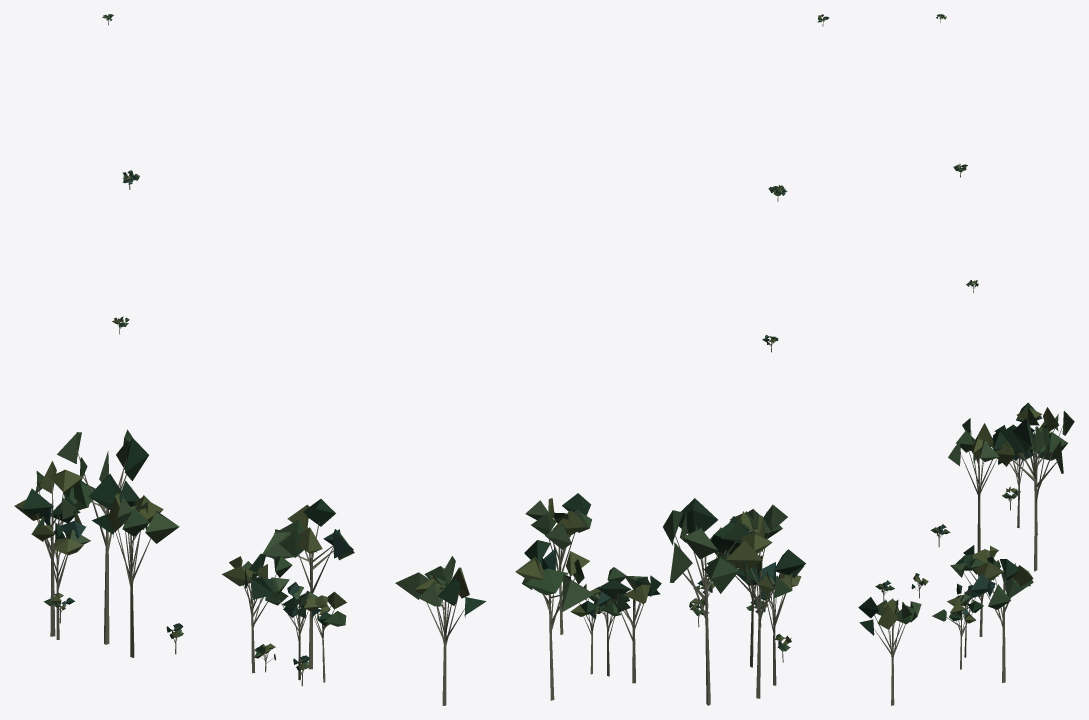
Rendered from forest_23_23.dae.
The picture shows the model from 3 angles, left to right: view 1: azimuth 30°, elevation 25°; view 2: azimuth 150°, elevation 25°; view 3: azimuth 270°, elevation 25°; orthographic projection. The views are drawn at different scales.
Parts seen in each view (by area): view 1: Node; view 2: Node; view 3: Node.
Boxes of the visible parts, left/top/right/bottom form: Node: left=14, top=14, right=486, bottom=705; Node: left=515, top=14, right=829, bottom=705; Node: left=858, top=14, right=1074, bottom=705.
Size of the model in its own units: 10.5 by 6.93 by 20.37.
